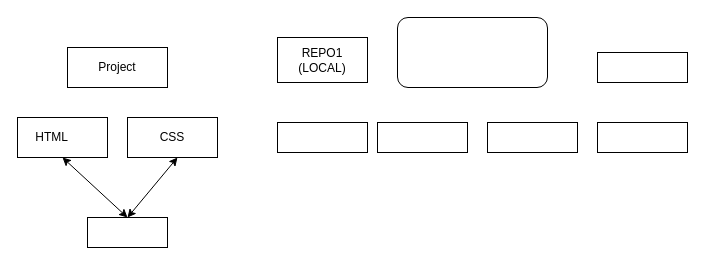
This 705x265 diagram has some shape labels left out. The shapes that lost their labels are listed below. From the top down, each one's centre as x and y in pixels, then its label:
the point at 472,52: REMOTE REPO (REMOVE)
the point at 127,232: GIT REPO
